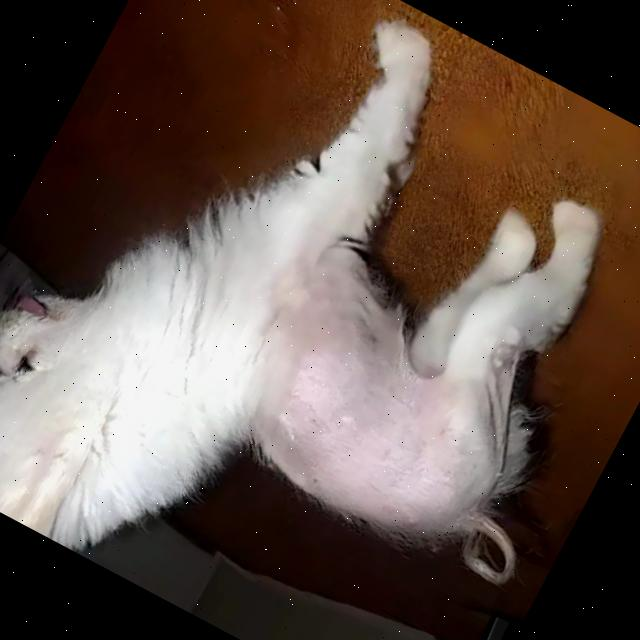cat-hairloss: (254, 303, 505, 542)
